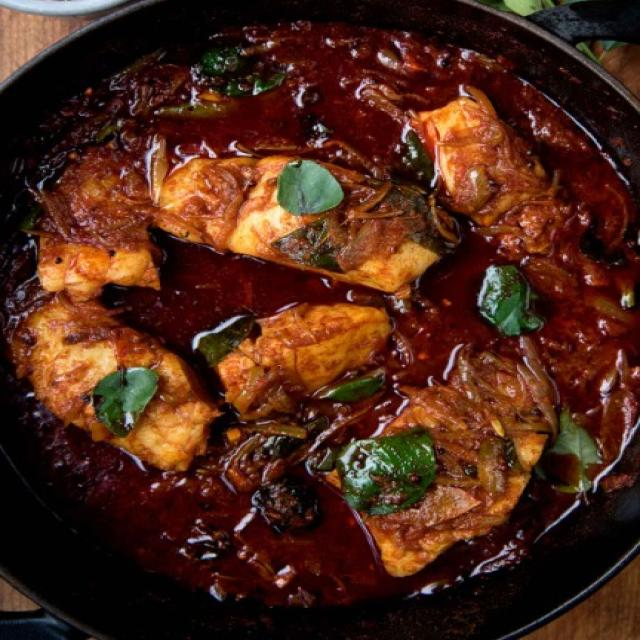FISH CURRY: (0, 21, 639, 607)
